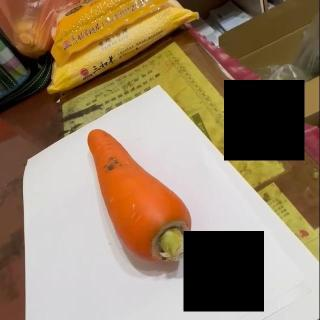carrot: (88, 129, 194, 266)
